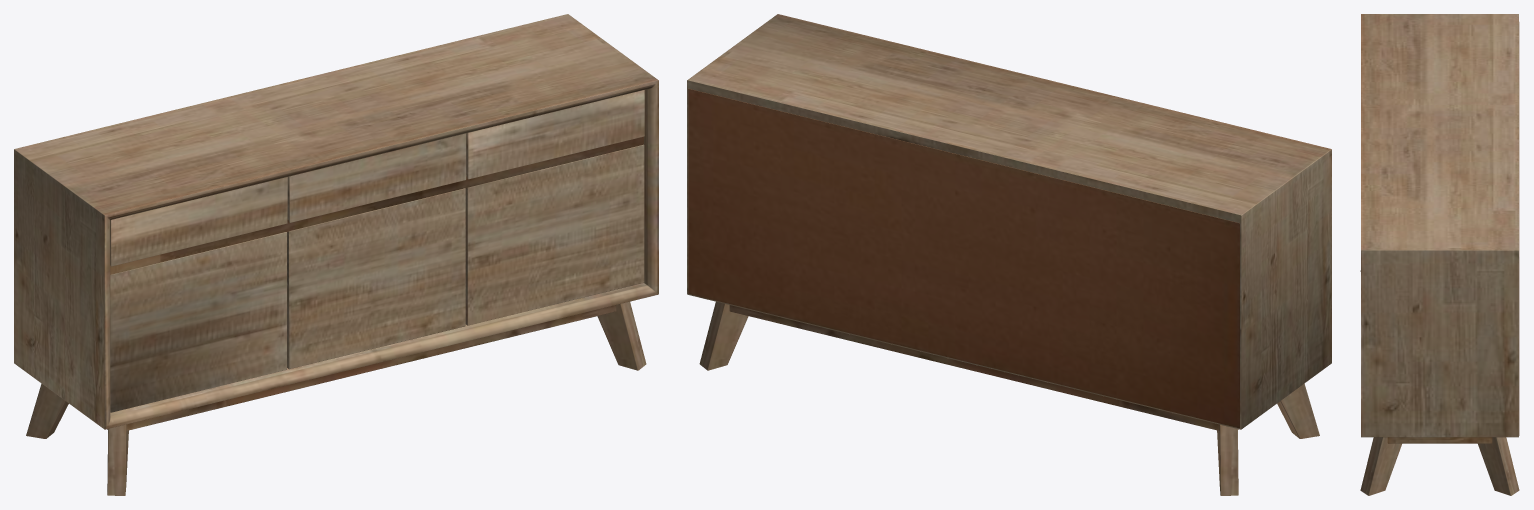
3 renders of one model, left to right at view 1: azimuth 30°, elevation 25°; view 2: azimuth 150°, elevation 25°; view 3: azimuth 270°, elevation 25°, orthographic. The views are drawn at different scales.
Visible parts, largest first — view 1: RootNode; view 2: RootNode; view 3: RootNode.
Boxes of the visible parts, x1,y1,x2,y2 form: RootNode: (14, 14, 658, 495); RootNode: (687, 14, 1331, 495); RootNode: (1360, 14, 1519, 495).
Bounding box in the file's own units: 1.63 × 0.8 × 0.4623.
1 material, 1 textured.
